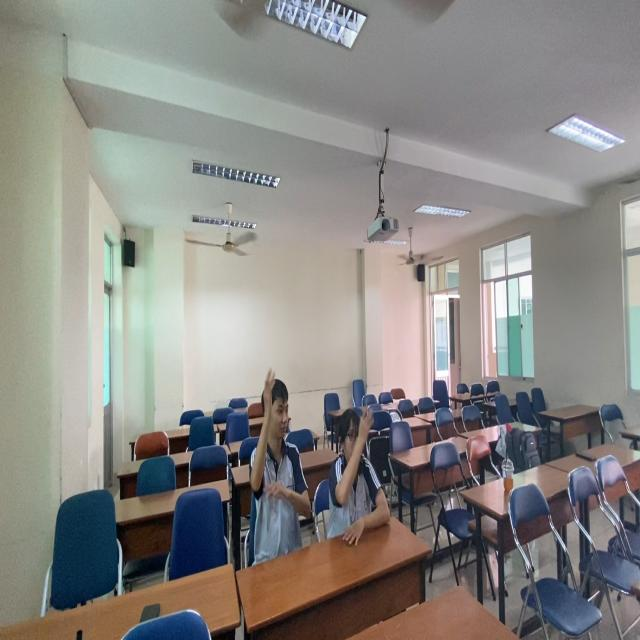raise_hand: (245, 364, 314, 556), (331, 403, 397, 544)
